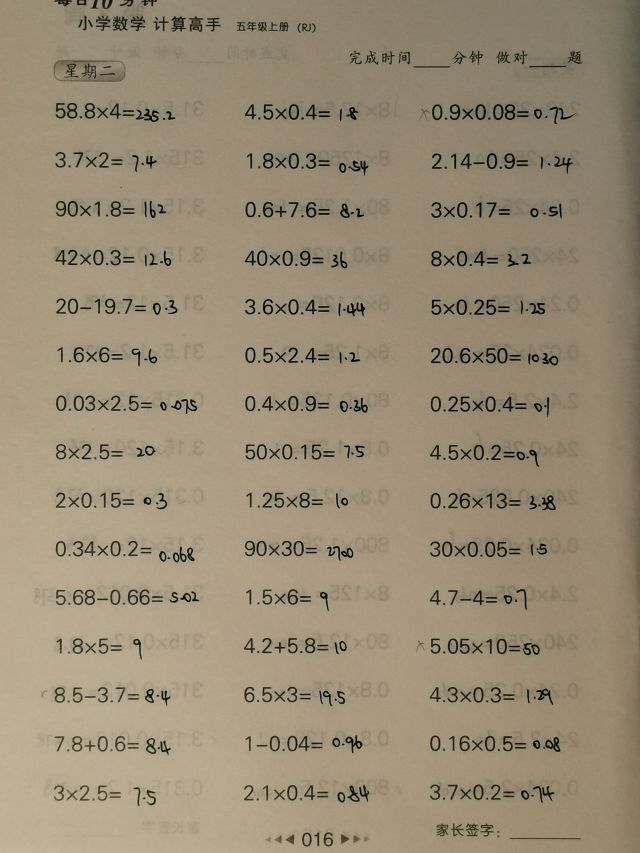equation: (416, 98, 579, 126), (422, 778, 560, 809), (50, 535, 197, 564), (427, 148, 577, 175), (51, 390, 201, 416), (52, 585, 204, 610), (242, 148, 372, 176), (428, 196, 566, 222), (426, 391, 553, 419), (49, 98, 176, 126), (426, 342, 562, 368), (426, 487, 559, 513), (426, 730, 564, 755), (240, 780, 372, 806), (426, 681, 557, 707), (240, 390, 371, 416), (427, 438, 543, 467), (50, 730, 174, 757), (240, 196, 367, 222), (240, 98, 362, 125), (241, 730, 366, 756), (413, 633, 543, 658), (50, 682, 174, 708), (51, 244, 175, 270), (53, 293, 181, 318), (242, 440, 369, 465), (241, 294, 368, 319), (240, 535, 357, 562), (427, 584, 531, 614), (52, 488, 172, 514), (427, 537, 551, 562), (241, 343, 365, 368), (51, 196, 170, 222), (49, 780, 159, 808), (428, 295, 549, 320), (51, 147, 160, 174), (53, 342, 161, 369), (240, 245, 351, 271), (239, 681, 349, 707), (241, 633, 351, 658), (243, 488, 353, 513), (52, 634, 146, 663), (52, 440, 160, 465), (427, 246, 535, 271), (242, 584, 334, 612)
